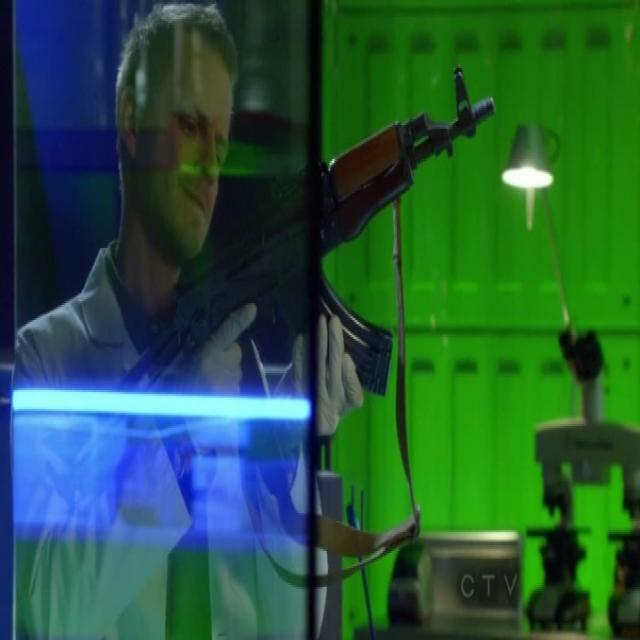rifle: (105, 54, 503, 486)
